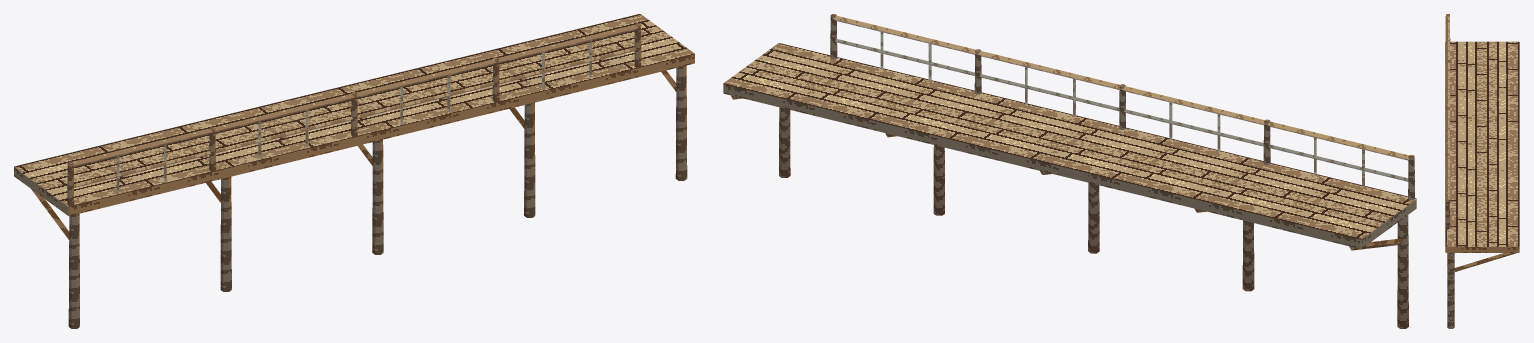
Rendered from wtown.gallery__long.glb.
The picture shows the model from 3 angles, left to right: view 1: azimuth 30°, elevation 25°; view 2: azimuth 150°, elevation 25°; view 3: azimuth 270°, elevation 25°; orthographic projection. The views are drawn at different scales.
Parts seen in each view (by area): view 1: kit_deck, kit_railing, kit_posts, kit_braces; view 2: kit_deck, kit_railing, kit_posts; view 3: kit_deck, kit_railing, kit_posts, kit_braces.
Boxes of the visible parts, left/top/right/bottom form: kit_deck: left=14, top=14, right=694, bottom=215; kit_railing: left=67, top=23, right=641, bottom=205; kit_posts: left=68, top=65, right=687, bottom=328; kit_braces: left=31, top=70, right=676, bottom=239; kit_deck: left=723, top=43, right=1416, bottom=248; kit_railing: left=830, top=14, right=1414, bottom=200; kit_posts: left=779, top=107, right=1408, bottom=328; kit_deck: left=1445, top=41, right=1519, bottom=252; kit_railing: left=1445, top=14, right=1450, bottom=229; kit_posts: left=1447, top=253, right=1454, bottom=328; kit_braces: left=1454, top=253, right=1516, bottom=271.
Bounding box in the file's own units: 15.72 × 4.01 × 2.4.
Materials: 4 (4 with a texture image).
